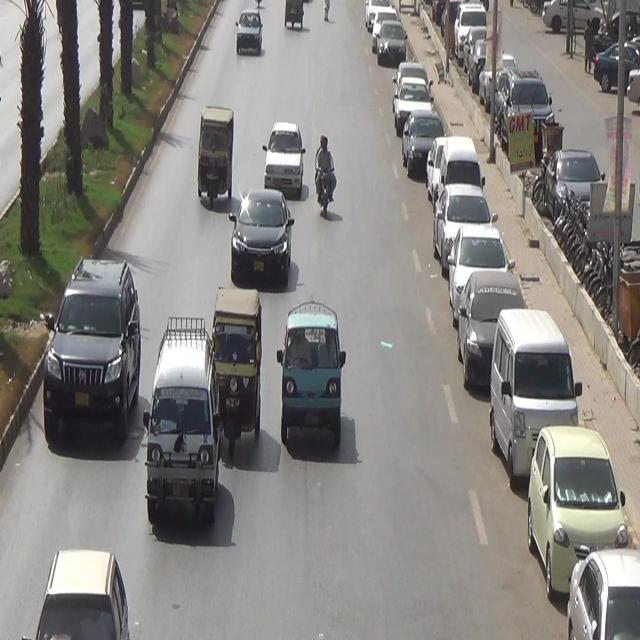car: (25, 239, 144, 453), (136, 308, 221, 530), (223, 177, 302, 283), (261, 114, 306, 196), (230, 0, 269, 61)
motorbike: (311, 120, 338, 227)
truck: (277, 307, 355, 453)
